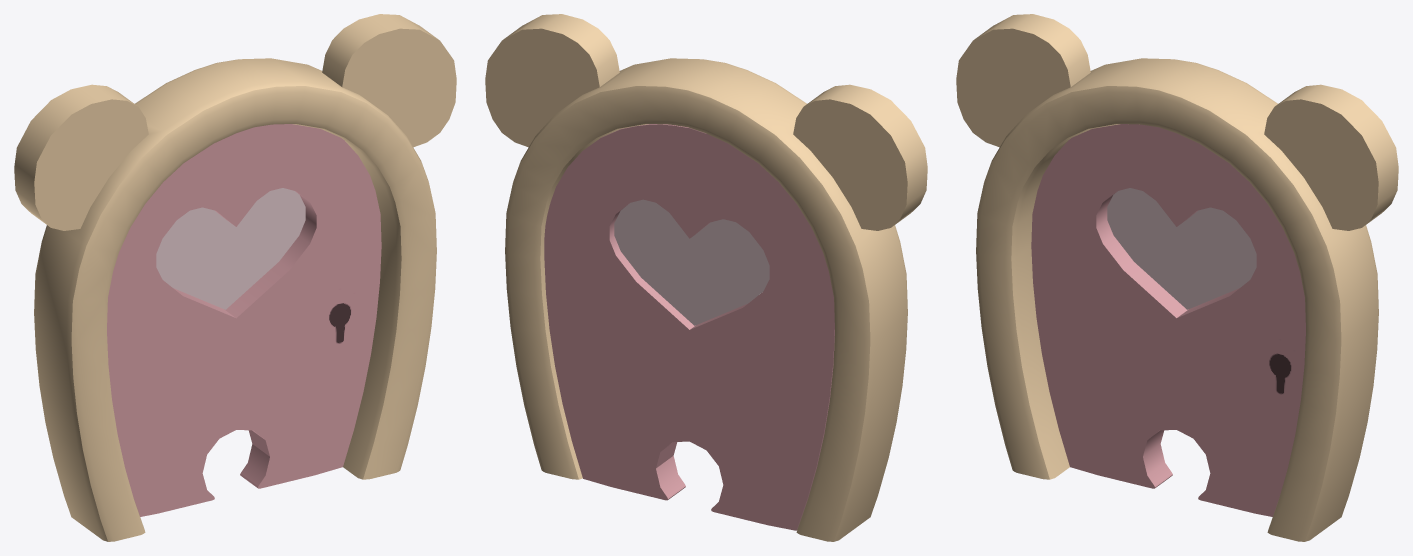
File: Door_02.fbx
3 renders of one model, left to right at view 1: azimuth 30°, elevation 25°; view 2: azimuth 150°, elevation 25°; view 3: azimuth 330°, elevation 25°, orthographic.
Parts seen in each view (by area): view 1: 立方体.017; view 2: 立方体.017; view 3: 立方体.017.
Boxes of the visible parts, bbox=[...] form: 立方体.017: bbox=[14, 14, 456, 541]; 立方体.017: bbox=[485, 14, 927, 541]; 立方体.017: bbox=[956, 14, 1398, 541].
Bounding box in the file's own units: 198 × 195 × 32.47.
